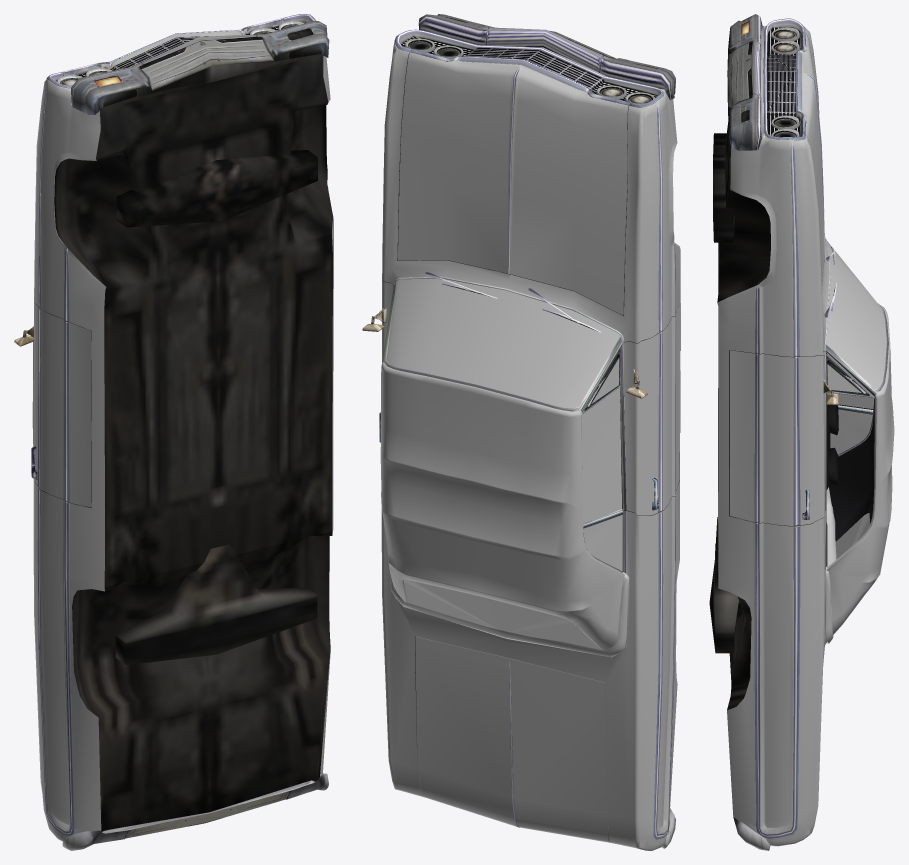
File: ConallConvertible.FBX
3 renders of one model, left to right at view 1: azimuth 30°, elevation 25°; view 2: azimuth 150°, elevation 25°; view 3: azimuth 270°, elevation 25°, orthographic. The views are drawn at different scales.
Parts seen in each view (by area): view 1: ConallMisc, ConallConver_P, PFDoor_P, TrimC, TrimCPD, Hoodmisc; view 2: ConallConver_P, Hood_P, Roof_EC, Trunk_P, GlassFront, ConallMisc, PFDoor_P, BackGlass, GlassPdoor, TrimC, OpenRoof_EC, PFdoormisc (+3 smaller); view 3: ConallConver_P, ConallMisc, DFDoor_P, Roof_EC, TrimC, GlassFront, RoofMisc, Hood_P, TrimCDD, PDoorMisc, GlassSide2, OpenRoof_EC (+5 smaller).
Part boxes in pixels (x1,y1,x2,y2): ConallMisc: [35, 14, 332, 850]; ConallConver_P: [33, 17, 333, 841]; PFDoor_P: [33, 299, 91, 507]; TrimC: [37, 81, 328, 835]; TrimCPD: [38, 307, 69, 502]; Hoodmisc: [62, 18, 283, 75]; ConallConver_P: [381, 30, 680, 850]; Hood_P: [398, 52, 628, 315]; Roof_EC: [380, 362, 624, 650]; Trunk_P: [415, 637, 609, 842]; GlassFront: [386, 278, 620, 408]; ConallMisc: [382, 14, 680, 848]; PFDoor_P: [624, 304, 680, 515]; BackGlass: [403, 579, 600, 649]; GlassPdoor: [582, 387, 621, 523]; TrimC: [653, 103, 676, 839]; OpenRoof_EC: [390, 572, 629, 657]; PFdoormisc: [581, 307, 678, 510]; ConallConver_P: [717, 24, 829, 846]; ConallMisc: [709, 14, 888, 850]; DFDoor_P: [730, 350, 825, 525]; Roof_EC: [826, 305, 894, 634]; TrimC: [754, 141, 800, 838]; GlassFront: [826, 240, 886, 389]; RoofMisc: [829, 398, 874, 541]; Hood_P: [802, 34, 824, 295]; TrimCDD: [754, 353, 800, 525]; PDoorMisc: [731, 350, 874, 519]; GlassSide2: [830, 409, 872, 454]; OpenRoof_EC: [825, 487, 836, 643].
Size of the model in its own units: 206 by 553 by 125.
